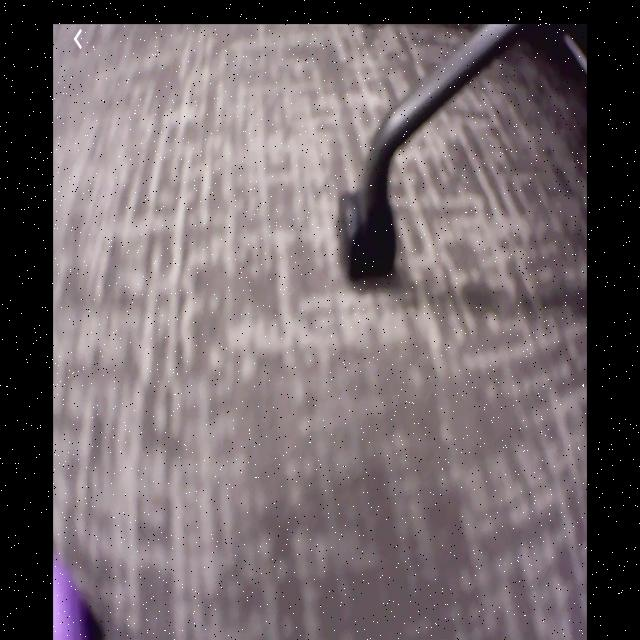ball: (53, 556, 84, 640)
